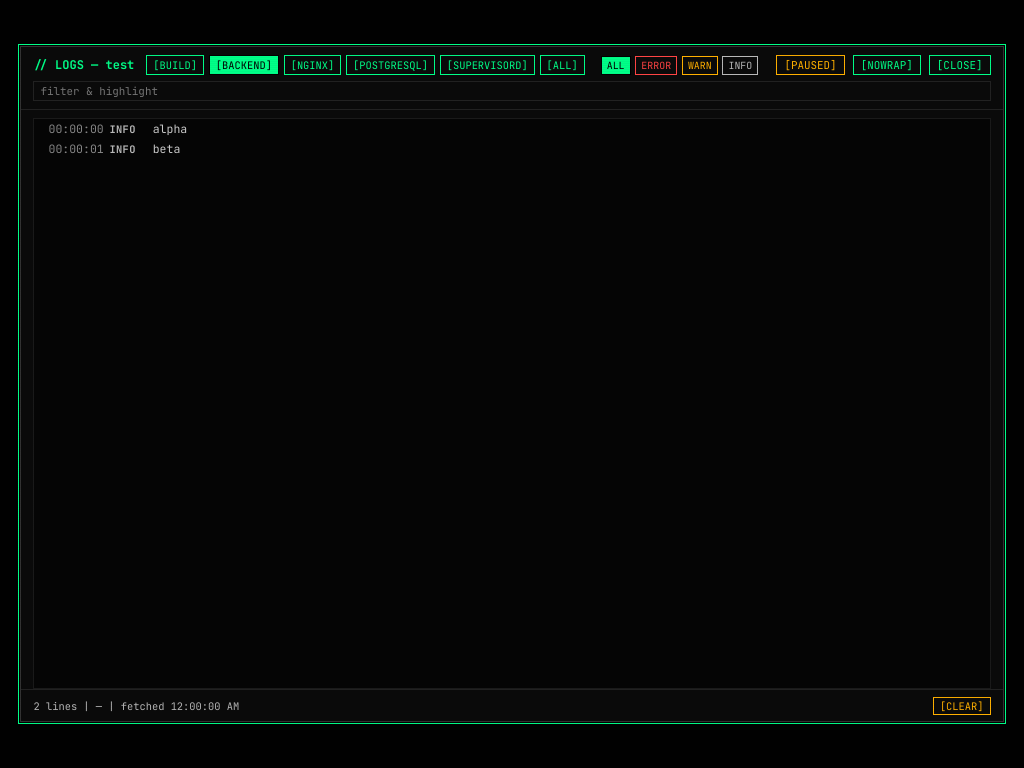
Scenario: LogPanel — combined filter + highlight input › restores all rows when the filter is cleared
Expected: the text "beta" is shown, [153, 141, 180, 156]
Type "alpha" into the field with placeholder "filter & highlight". click: (512, 92)
box: [34, 82, 990, 102]
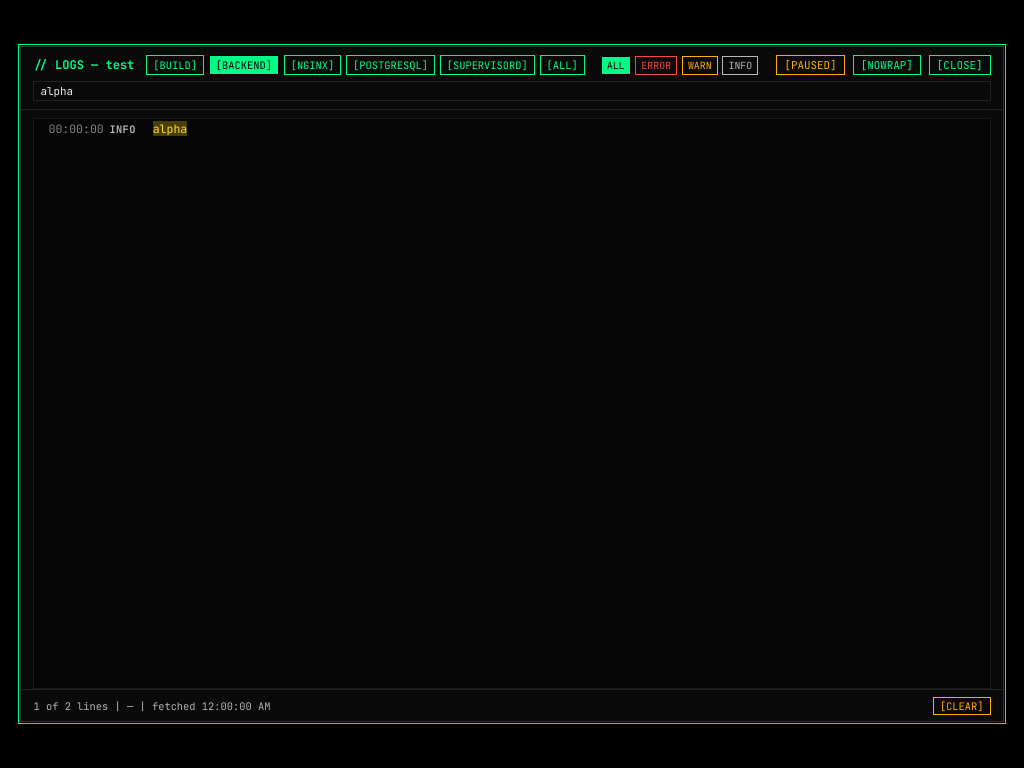
Expected: the button "beta" is gone
Clear the field with placeholder "filter & highlight". click: (512, 92)
box: [34, 82, 990, 102]
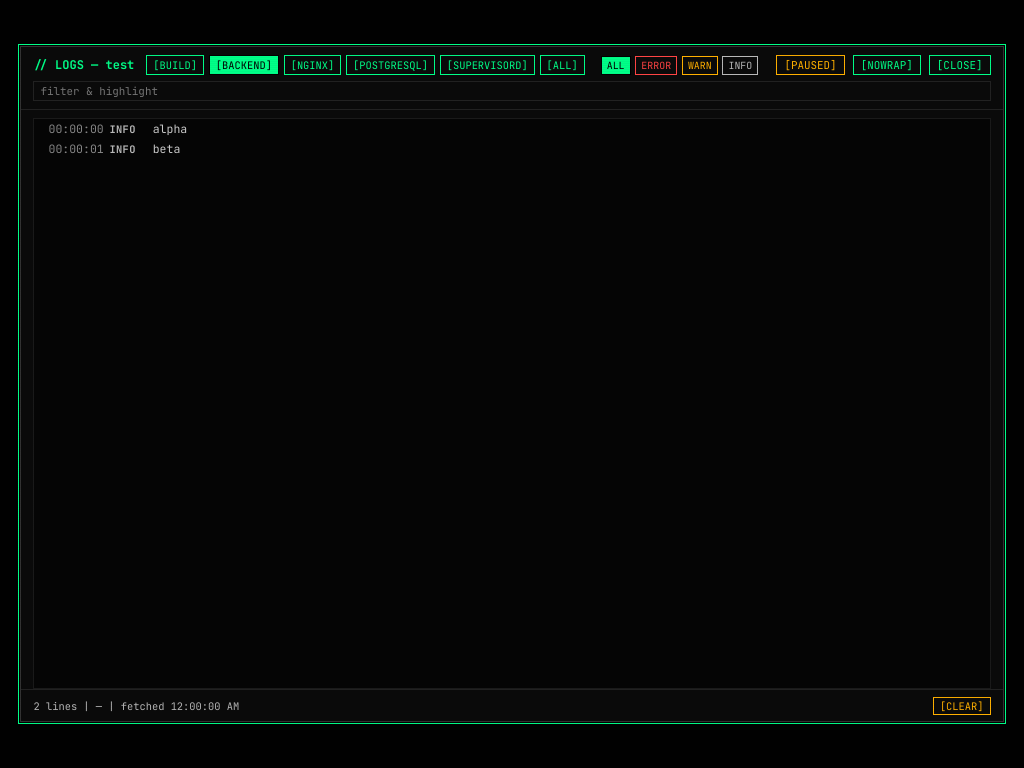
Expected: the text "beta" is shown, [153, 141, 180, 156]
